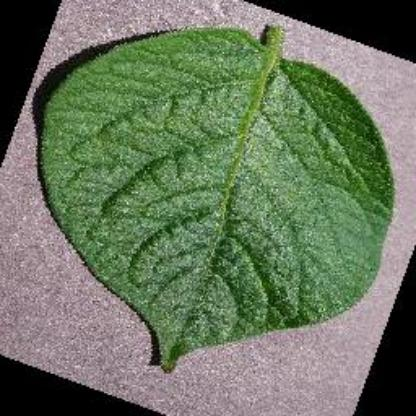Healthy-plant: (41, 16, 413, 394)
